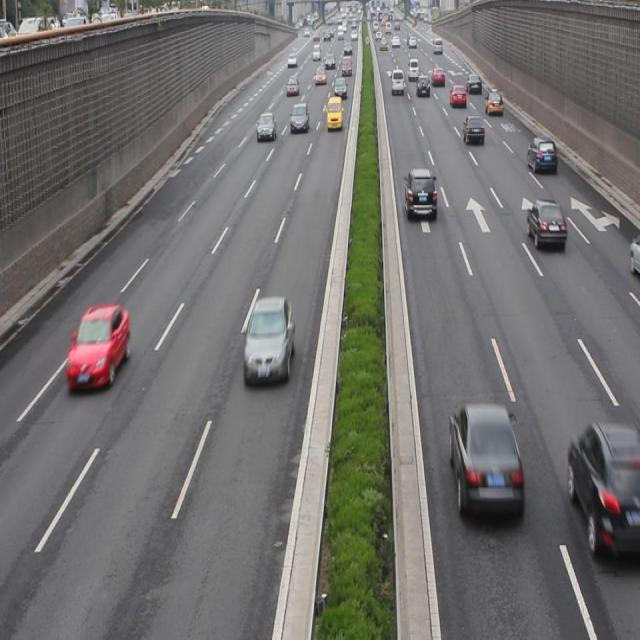car: (569, 422, 640, 558), (450, 402, 524, 519), (66, 303, 130, 392), (243, 294, 294, 386), (526, 197, 567, 249), (404, 166, 437, 220), (526, 134, 556, 175), (462, 114, 485, 148), (290, 101, 310, 136), (256, 110, 276, 142)
